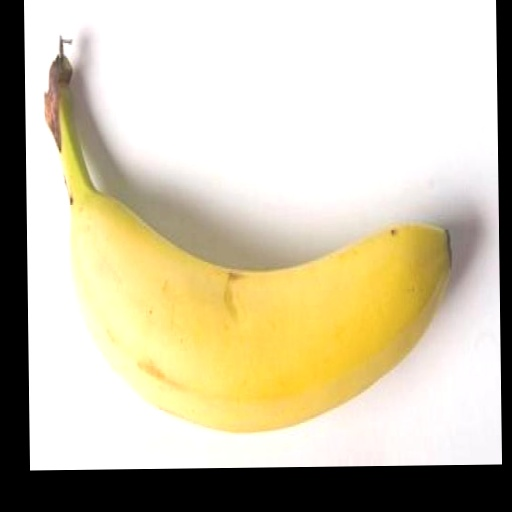fruit: (45, 42, 450, 431)
